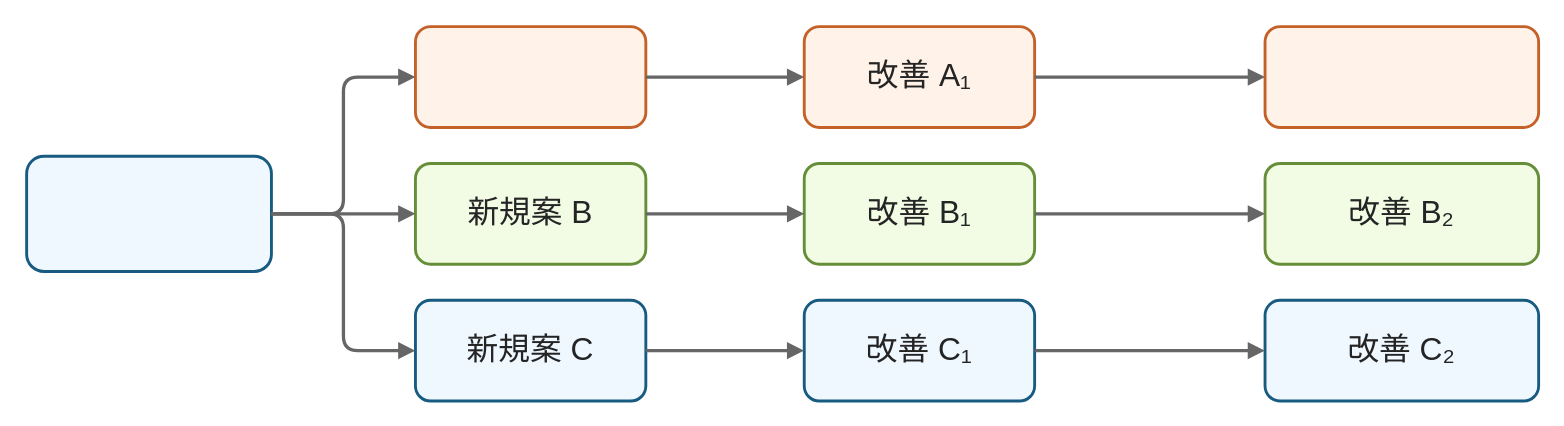
The diagram is 1564 pixels wide and 426 high, and some of its shapes have lost their labels. The centre of each missing label's shape, as x and y in pixels:
"問題・仕様" goes at point (148, 213).
"改善 A₂" goes at point (1401, 76).
"新規案 A" goes at point (530, 76).
